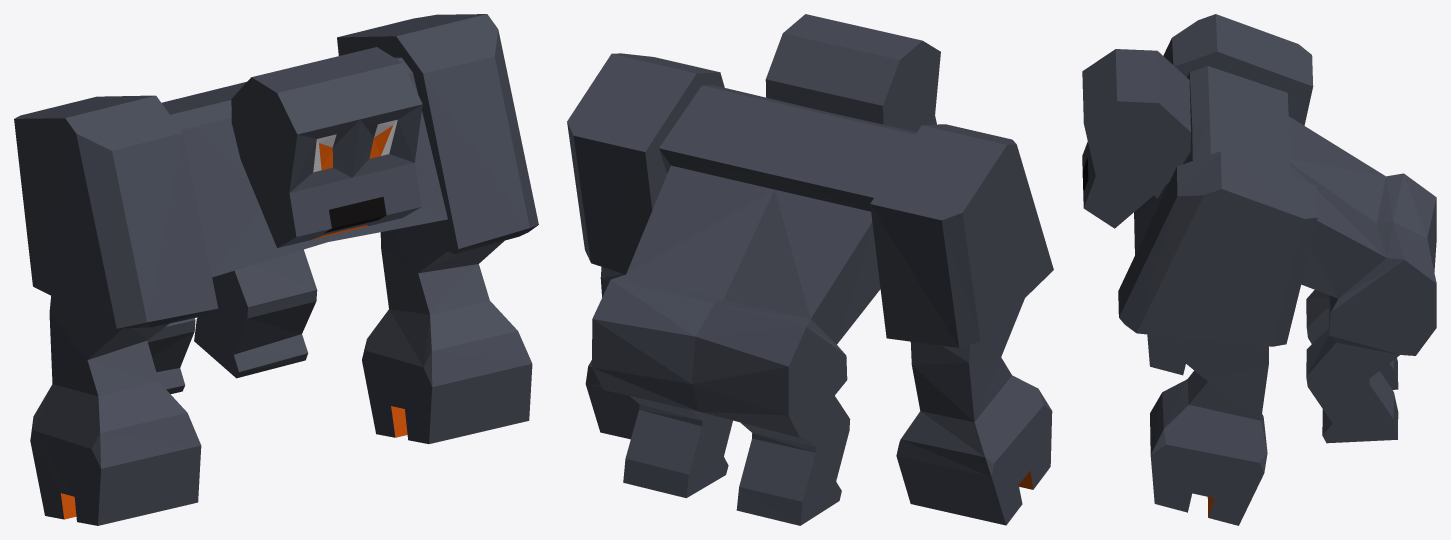
The model's file is kong_000021.obj.
3 views of the same model, side by side, from view 1: azimuth 30°, elevation 25°; view 2: azimuth 150°, elevation 25°; view 3: azimuth 270°, elevation 25° (orthographic). The views are drawn at different scales.
Visible parts, largest first — view 1: Cube; view 2: Cube; view 3: Cube.
Boxes of the visible parts, <box> form: Cube: <box>14,14,538,525</box>; Cube: <box>567,14,1053,525</box>; Cube: <box>1082,14,1436,525</box>.
Size of the model in its own units: 5.85 by 5.6 by 4.93.
Materials: 1 (1 with a texture image).
